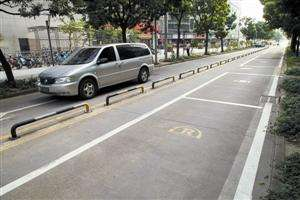slot_nocar: (5, 94, 273, 200), (184, 69, 282, 113), (236, 56, 285, 73)
